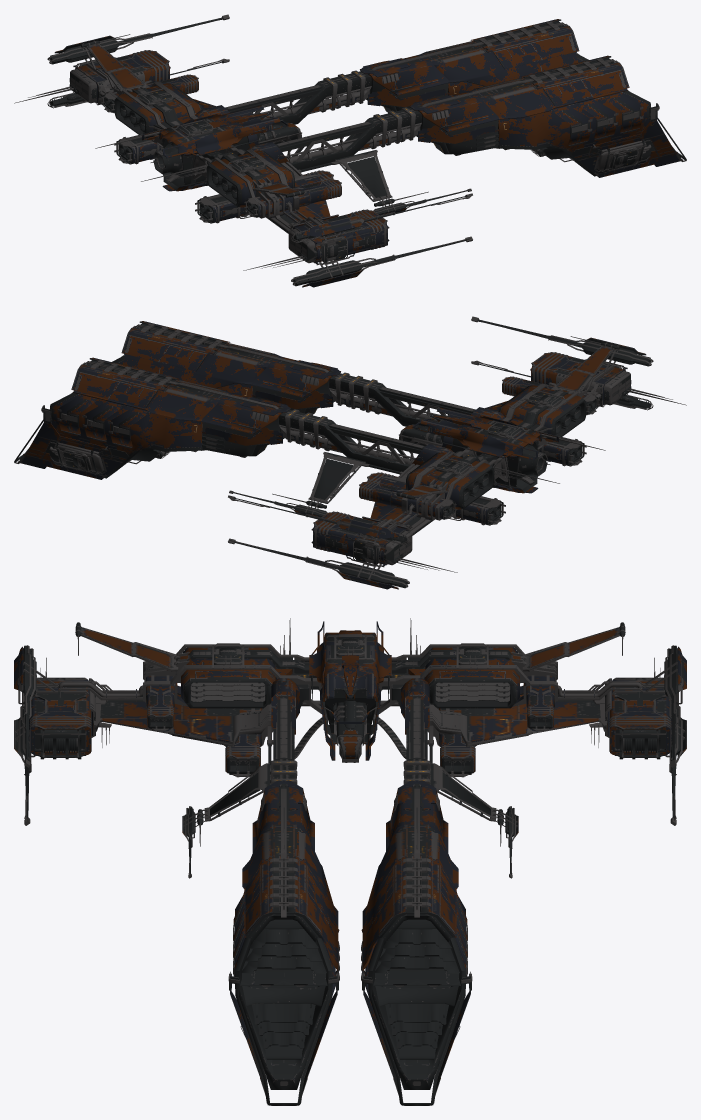
Rendered from rifter.glb.
3 renders of one model, top to bottom at view 1: azimuth 30°, elevation 25°; view 2: azimuth 150°, elevation 25°; view 3: azimuth 270°, elevation 25°, orthographic. The views are drawn at different scales.
Parts seen in each view (by area): view 1: Rifter; view 2: Rifter; view 3: Rifter.
Boxes of the visible parts, left/top/right/bottom form: Rifter: left=14, top=14, right=686, bottom=287; Rifter: left=14, top=316, right=686, bottom=589; Rifter: left=14, top=618, right=686, bottom=1105.
Bounding box in the file's own units: 121 × 28.76 × 98.32.
1 material, 1 textured.
